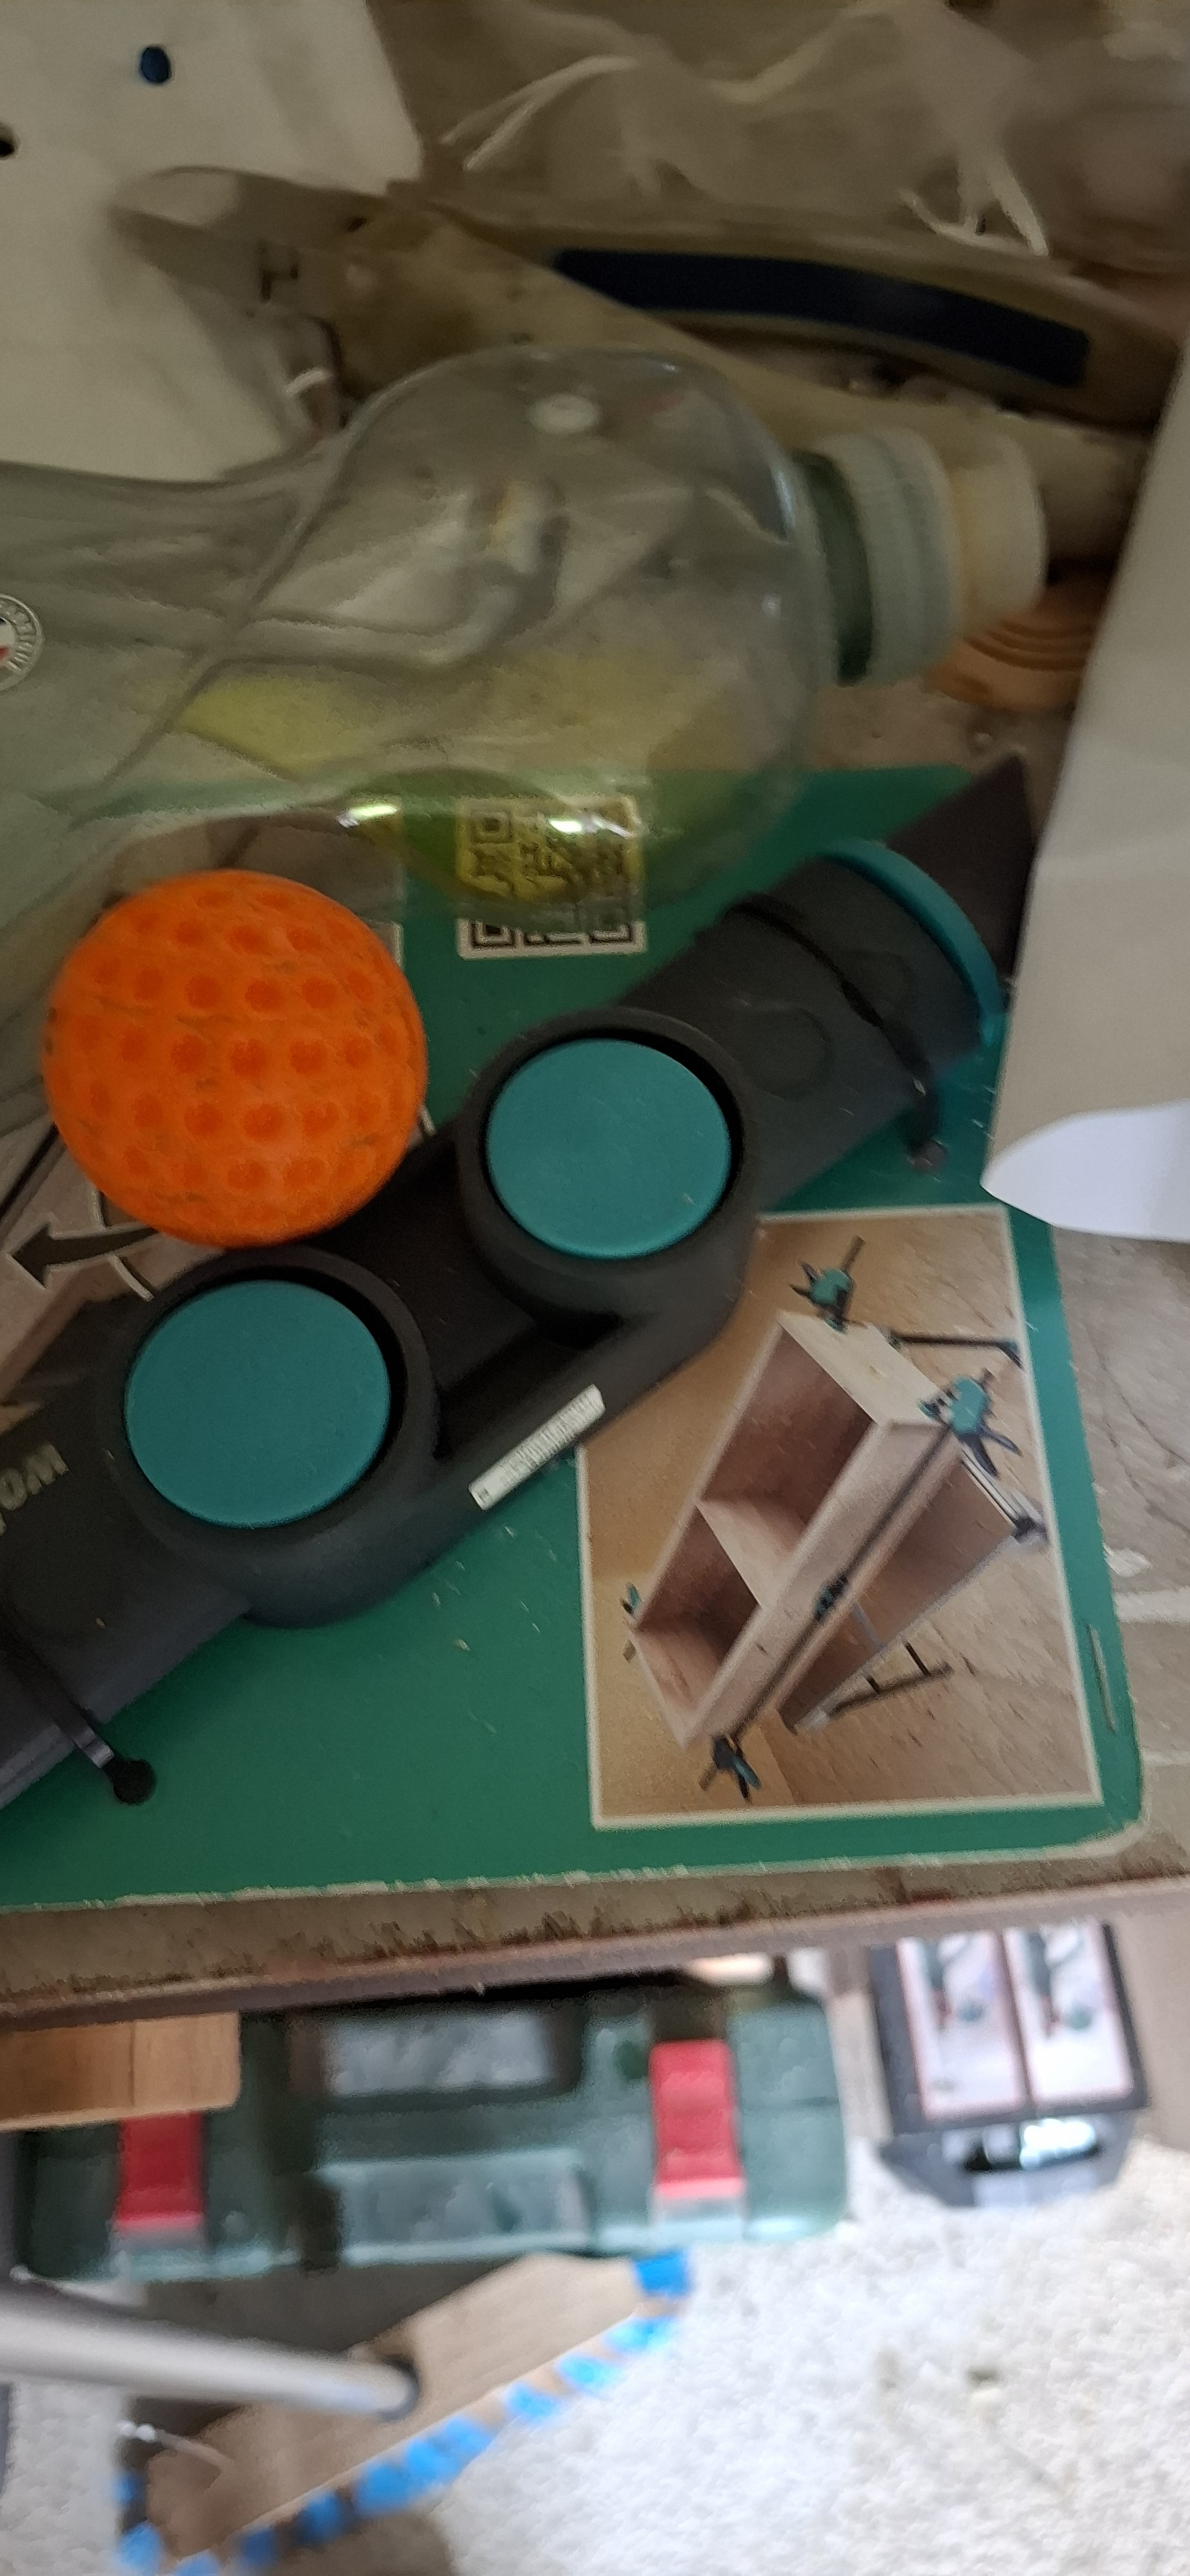ball: (398, 1643, 580, 2491)
